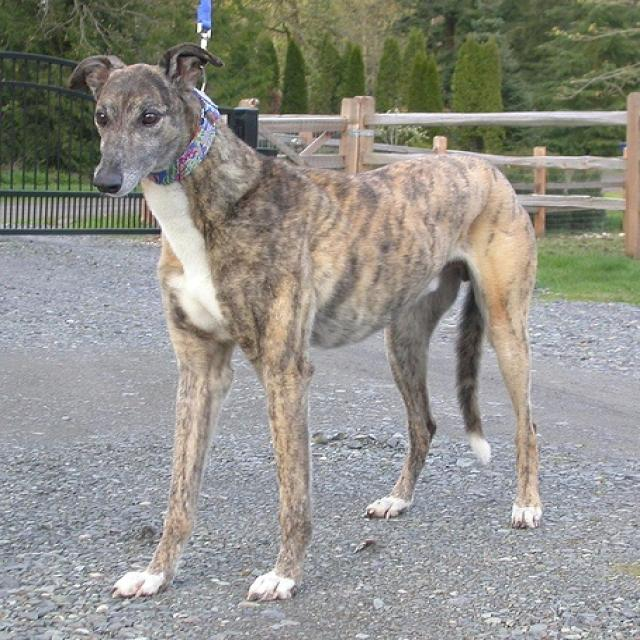dog: (70, 44, 544, 602)
